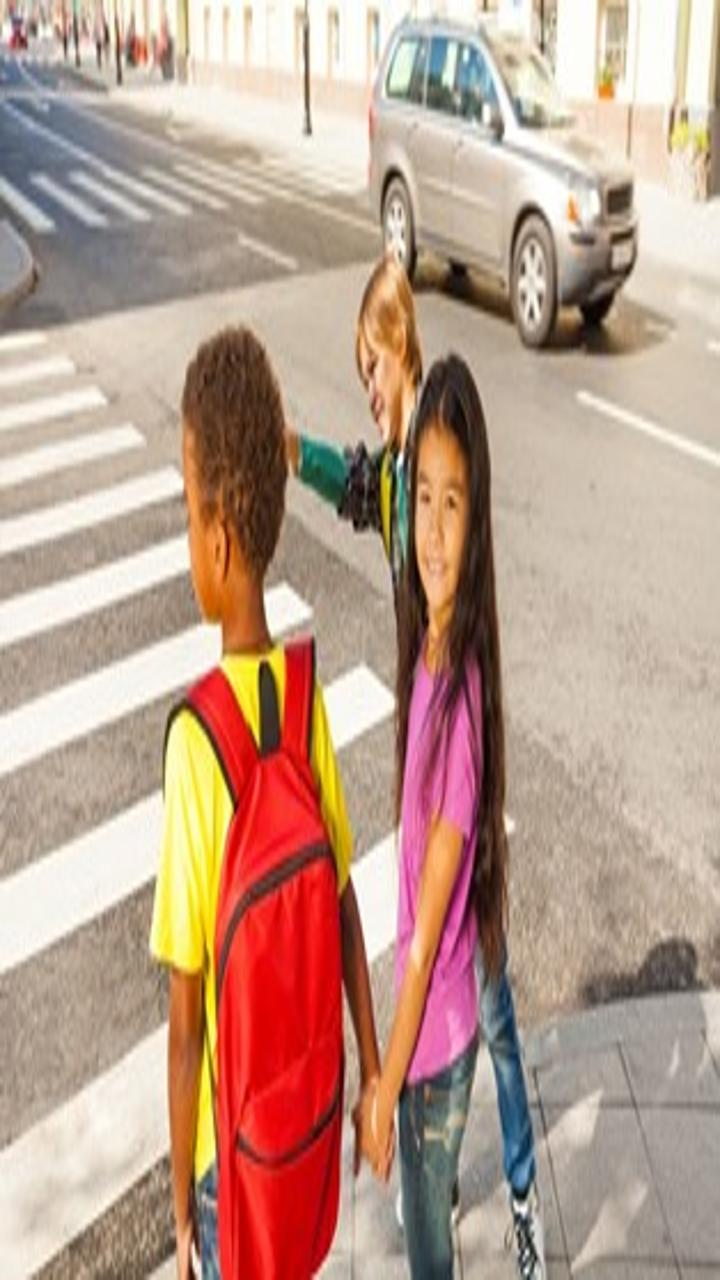pedestrian: (111, 336, 389, 1280), (363, 320, 572, 1271), (306, 169, 515, 1120)
vehicle: (343, 4, 691, 336)
